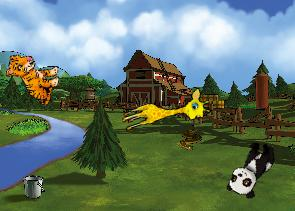giraffe: (118, 85, 213, 142)
panda: (223, 135, 280, 202)
tiger: (1, 51, 63, 106)
